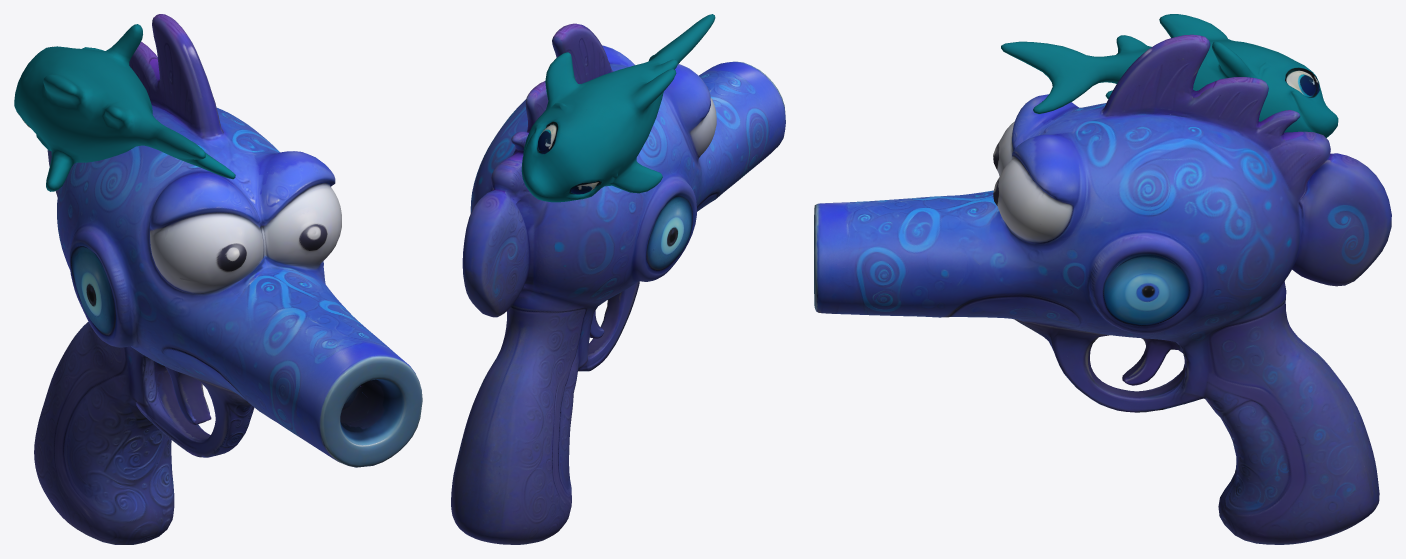
The model's file is SM_Gun1.fbx.
3 renders of one model, left to right at view 1: azimuth 30°, elevation 25°; view 2: azimuth 150°, elevation 25°; view 3: azimuth 270°, elevation 25°, orthographic. The views are drawn at different scales.
Parts seen in each view (by area): view 1: input, texture_pbr_v128; view 2: input, texture_pbr_v128; view 3: input, texture_pbr_v128.
Boxes of the visible parts, x1,y1,x2,y2 form: input: (34, 14, 422, 544); texture_pbr_v128: (14, 24, 235, 191); input: (451, 23, 785, 544); texture_pbr_v128: (521, 14, 715, 202); input: (814, 34, 1391, 544); texture_pbr_v128: (1001, 14, 1338, 137).
Size of the model in its own units: 79.7 by 191 by 200.
Materials: 2 (2 with a texture image).
